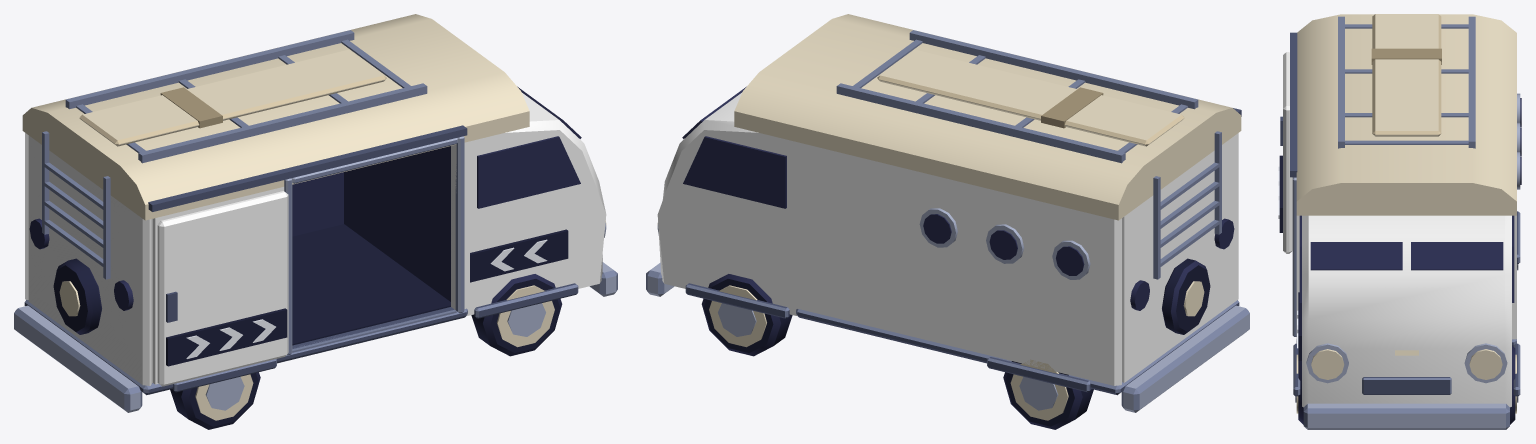
File: VanCamper.fbx
3 renders of one model, left to right at view 1: azimuth 30°, elevation 25°; view 2: azimuth 150°, elevation 25°; view 3: azimuth 270°, elevation 25°, orthographic. The views are drawn at different scales.
Parts seen in each view (by area): view 1: VanCamper, VanCamper_Paint; view 2: VanCamper, VanCamper_Paint; view 3: VanCamper, VanCamper_Paint.
Part boxes in pixels (x1,y1,x2,y2): VanCamper: (14,14,617,429); VanCamper_Paint: (25,92,606,386); VanCamper: (646,14,1249,429); VanCamper_Paint: (657,92,1238,385); VanCamper: (1278,14,1521,429); VanCamper_Paint: (1283,52,1516,407).
Bounding box in the file's own units: 14.9 × 7.89 × 7.08.
Materials: 1 (1 with a texture image).
